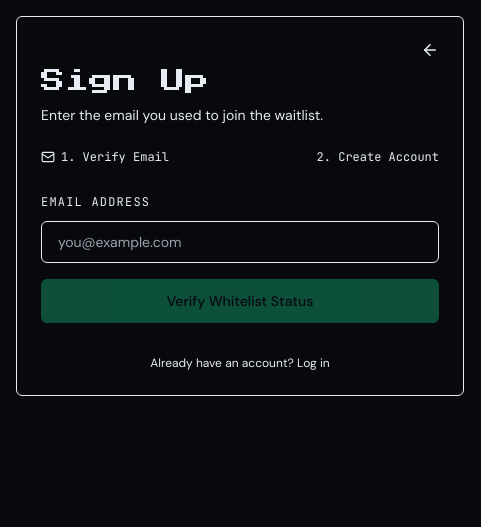
Test: approved signup flow › blocks auth step when email is not approved
Type "pending@example.com" into the field labelled "Email Address" at (240, 242), box [41,221,439,263]
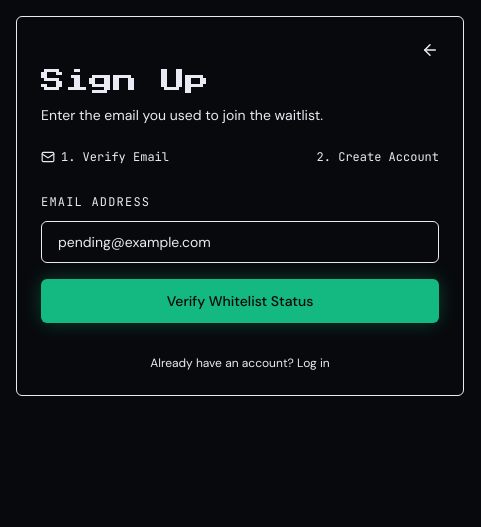
Click the button "Verify Whitelist Status" at (240, 301), box [41,279,439,323]
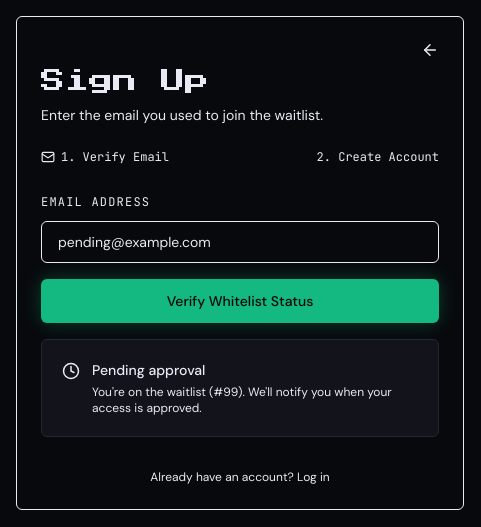
Check: the text "Pending approval" is shown, box [92,361,205,379]
